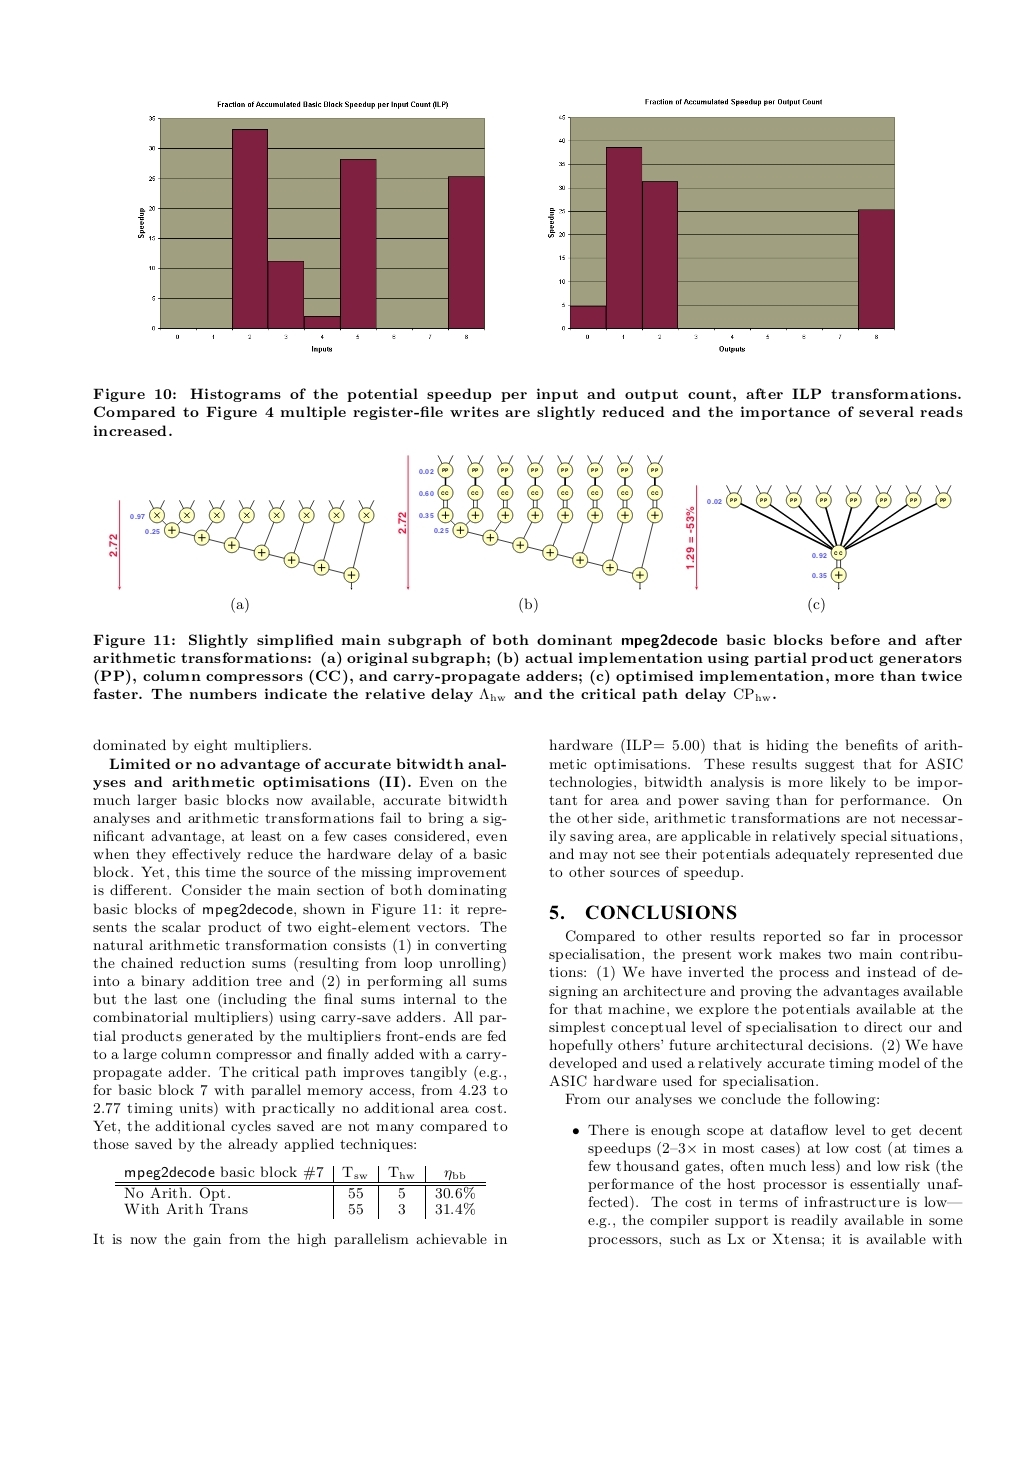Table: (115, 1165, 485, 1219)
figure: (548, 115, 894, 352), (138, 116, 484, 352), (398, 455, 662, 589), (686, 485, 951, 602), (109, 500, 372, 589)
